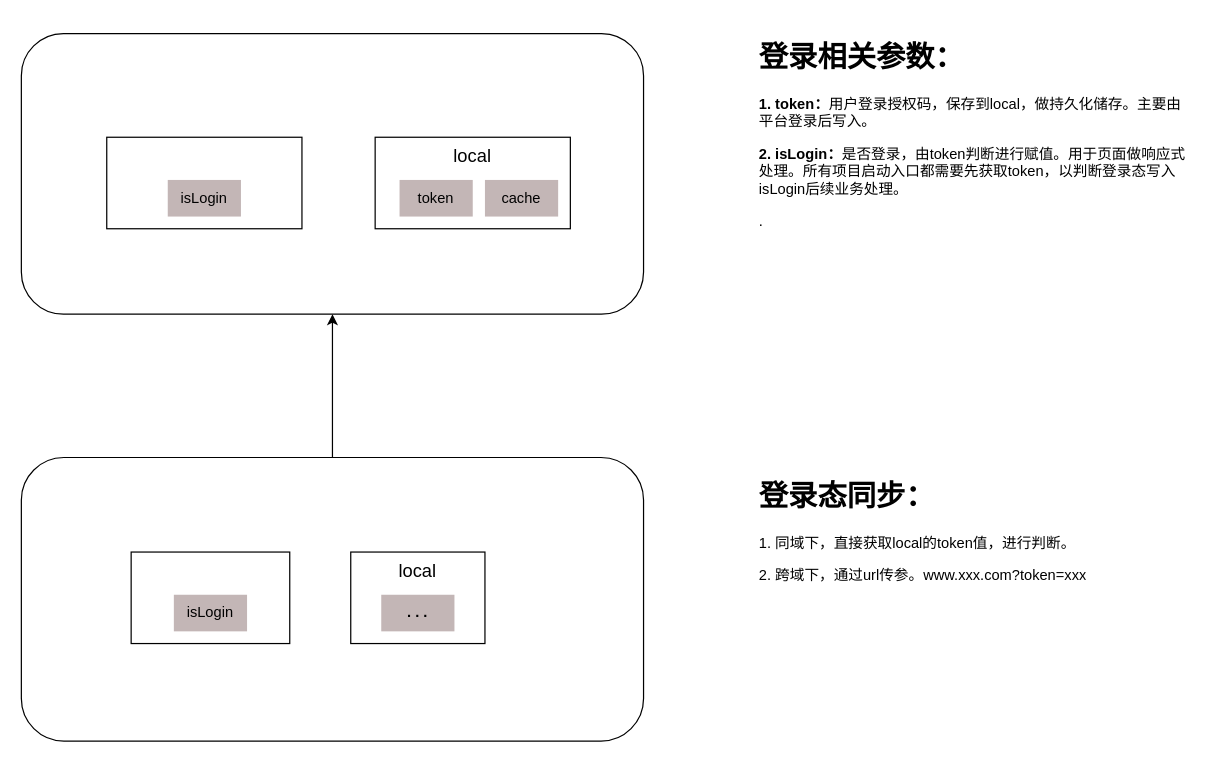
Image size: 1214x763. Some labels were removed from this diagram. Here are the shapes that lost their labels. From the top down, the box of each, then its label:
(106, 136, 302, 229): vuex（local）
(20, 32, 644, 314): 平台
(130, 551, 290, 644): vuex（session）
(20, 456, 644, 741): 子项目
